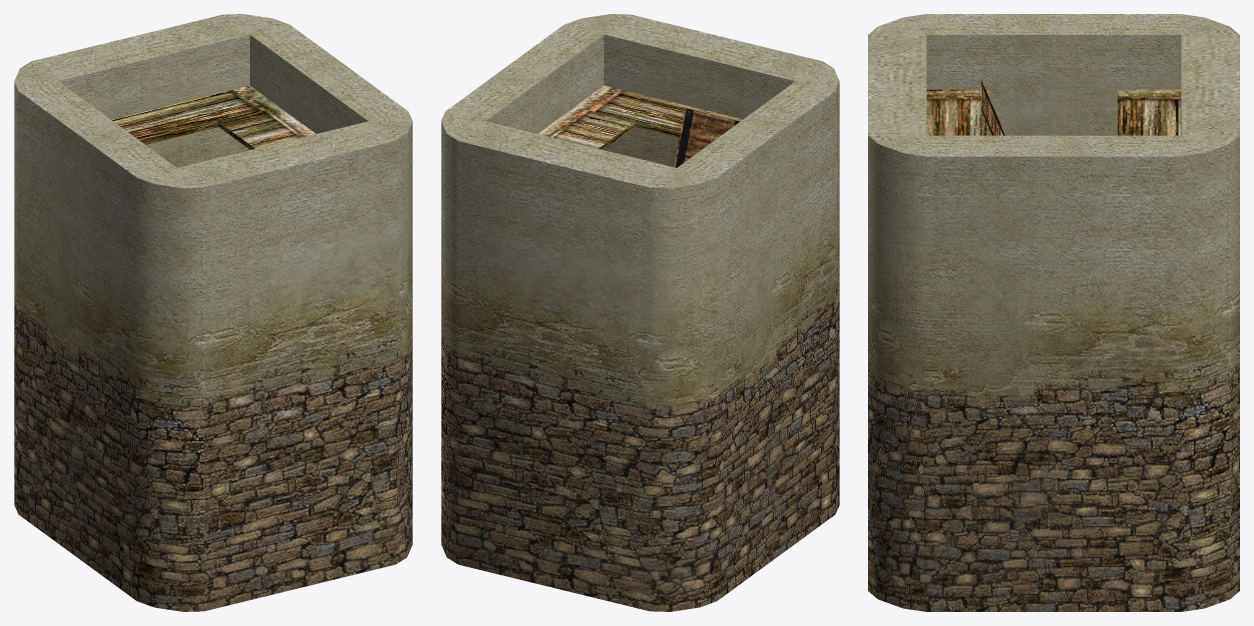
File: iber_wall_turret.dae
3 views of the same model, side by side, from view 1: azimuth 30°, elevation 25°; view 2: azimuth 150°, elevation 25°; view 3: azimuth 270°, elevation 25° (orthographic). The views are drawn at different scales.
Parts seen in each view (by area): view 1: Iberians_Wall_Tower; view 2: Iberians_Wall_Tower; view 3: Iberians_Wall_Tower.
Boxes of the visible parts, x1,y1,x2,y2 form: Iberians_Wall_Tower: (14,14,412,611); Iberians_Wall_Tower: (441,14,839,611); Iberians_Wall_Tower: (868,14,1239,611).
Size of the model in its own units: 8.66 by 9.55 by 12.91.
